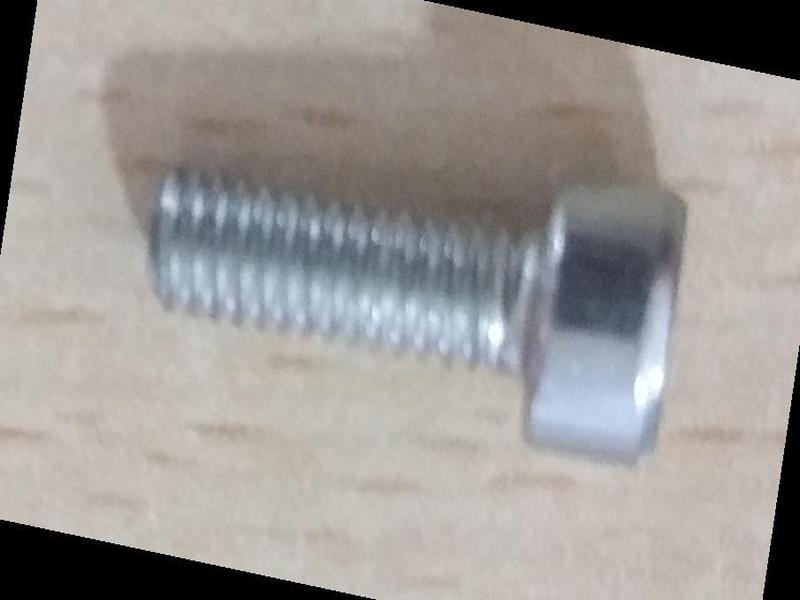smallscrew: (128, 121, 690, 481)
